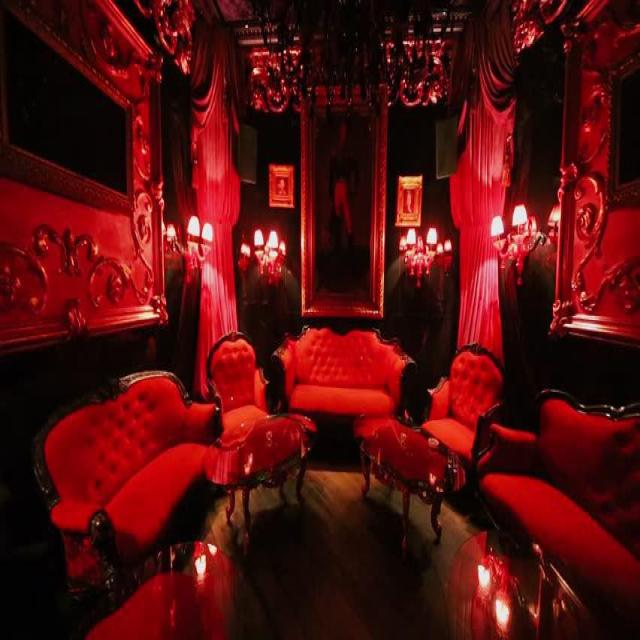other: (482, 192, 555, 247), (392, 218, 451, 284), (232, 218, 290, 273), (164, 203, 208, 270)
